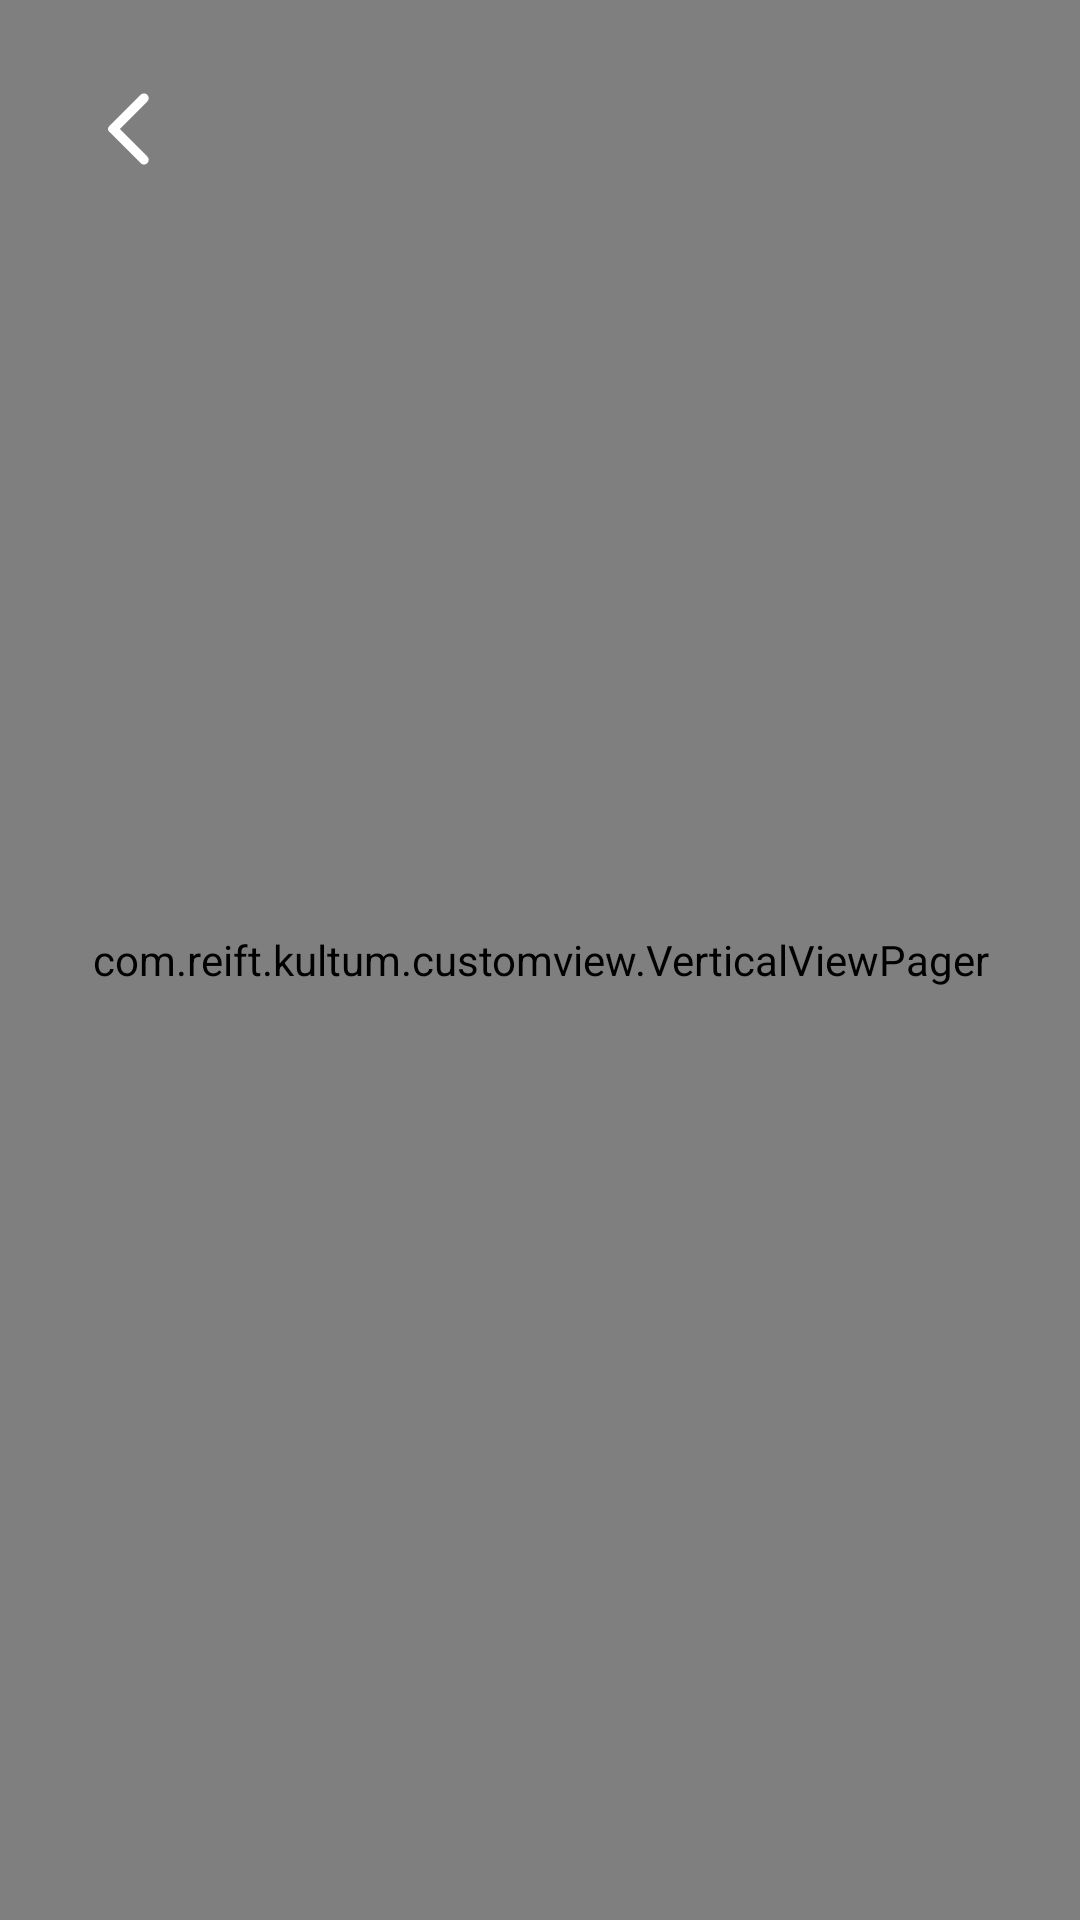

Where to tap for icons on this 1080*1920 app screen, as (x,y):
back: (128,129)
